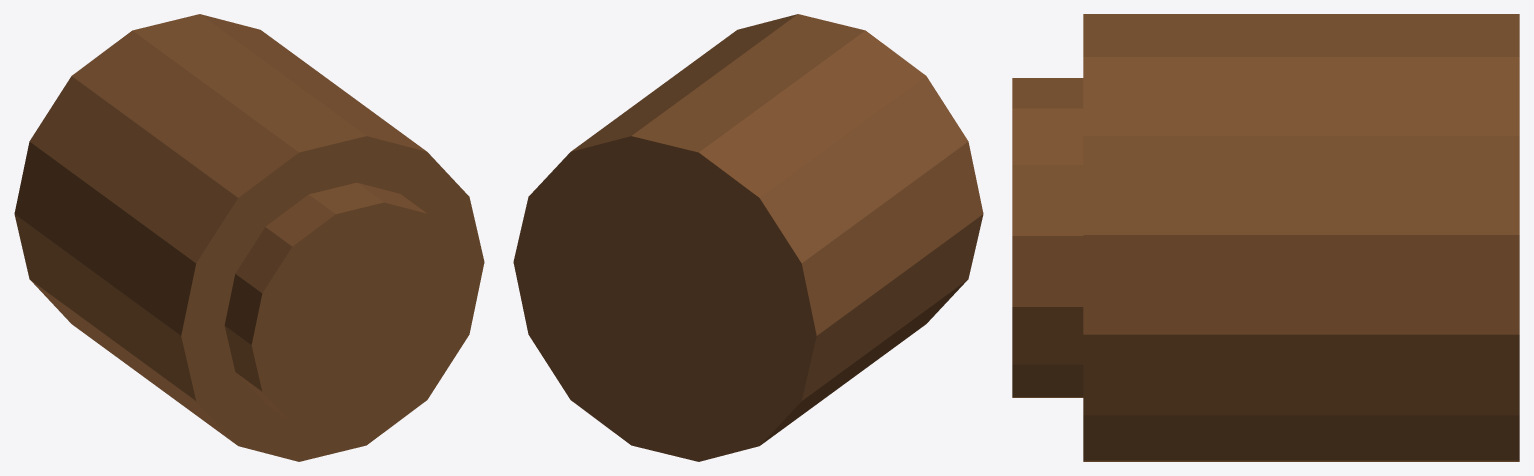
Rendered from SM_CommonBeehive.obj.
The picture shows the model from 3 angles, left to right: view 1: azimuth 30°, elevation 25°; view 2: azimuth 150°, elevation 25°; view 3: azimuth 270°, elevation 25°; orthographic projection. The views are drawn at different scales.
Parts seen in each view (by area): view 1: SM_CommonBeehive; view 2: SM_CommonBeehive; view 3: SM_CommonBeehive.
Part boxes in pixels (<box>): SM_CommonBeehive: <box>14,14,484,461</box>; SM_CommonBeehive: <box>513,14,983,461</box>; SM_CommonBeehive: <box>1012,14,1519,461</box>.
Size of the model in its own units: 84 by 81.89 by 93.
